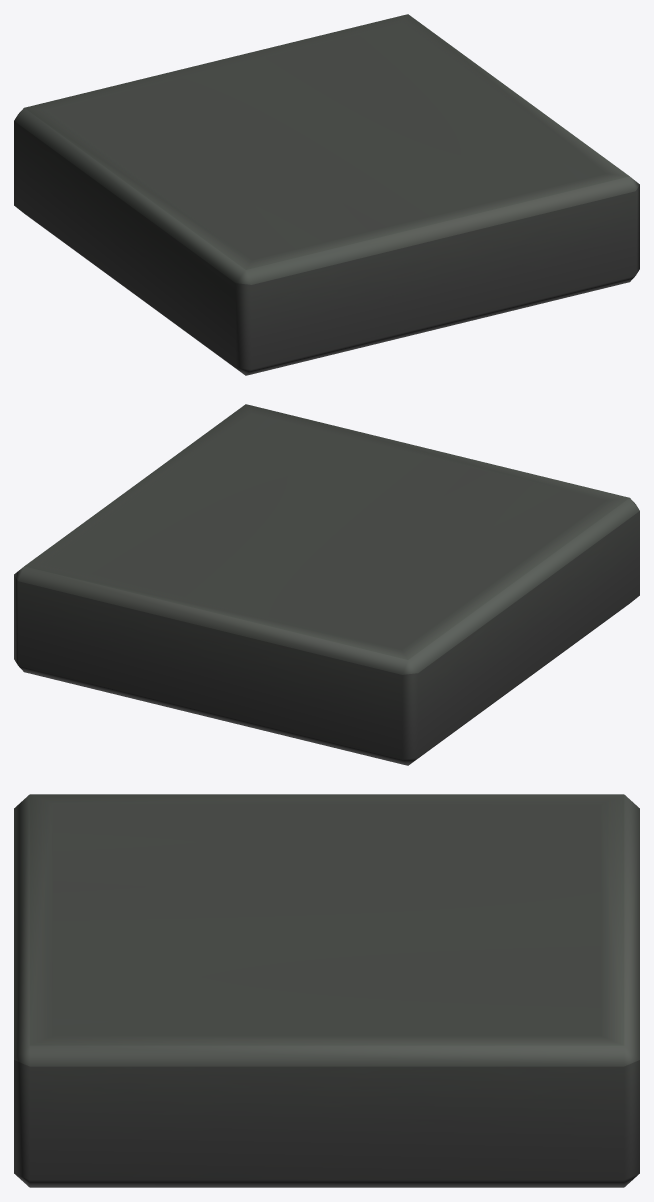
The model's file is island_x4.fbx.
The picture shows the model from 3 angles, top to bottom: view 1: azimuth 30°, elevation 25°; view 2: azimuth 150°, elevation 25°; view 3: azimuth 270°, elevation 25°; orthographic projection. The views are drawn at different scales.
Parts seen in each view (by area): view 1: island_x4; view 2: island_x4; view 3: island_x4.
Part boxes in pixels (<box>): island_x4: <box>14,14,639,375</box>; island_x4: <box>14,404,639,765</box>; island_x4: <box>14,794,639,1187</box>.
Size of the model in its own units: 800 by 200 by 800.
1 material, 1 textured.
